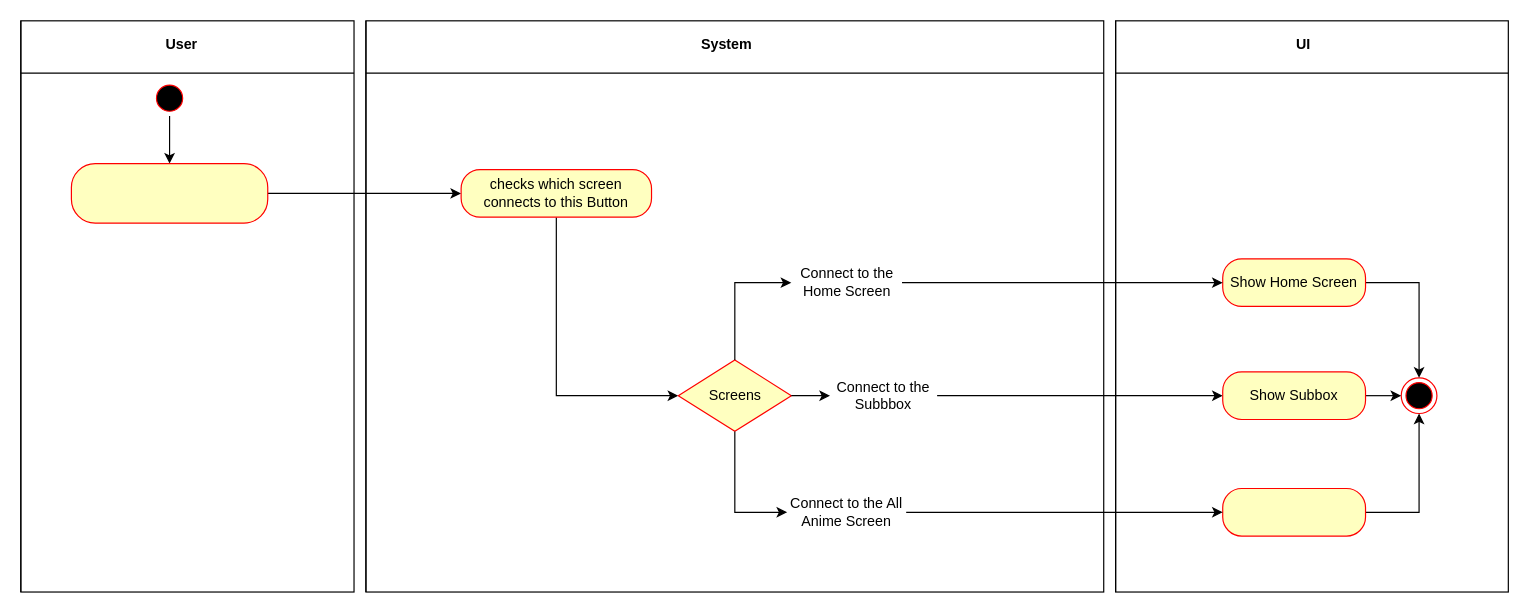
The diagram is 1529 pixels wide and 613 high, and some of its shapes have lost their labels. The box of each missing label's shape, as (x1, y1, x2, y2) in pixels:
Show All Anime: (1222, 487, 1366, 536)
User clicks on a Button in the Navigation Bar: (70, 162, 268, 223)
